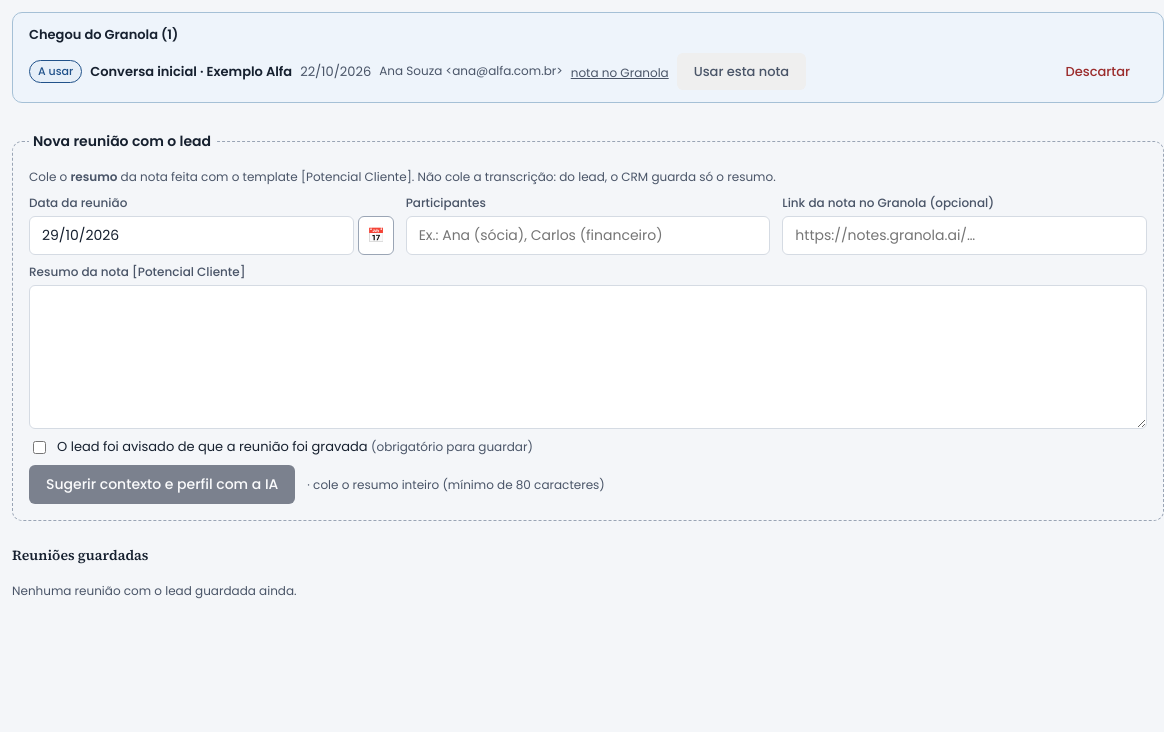
aba Granola › descartar a nota que chegou pede confirmação
Click the button "Descartar" at x=1098, y=71, box [1049,52,1147,90]
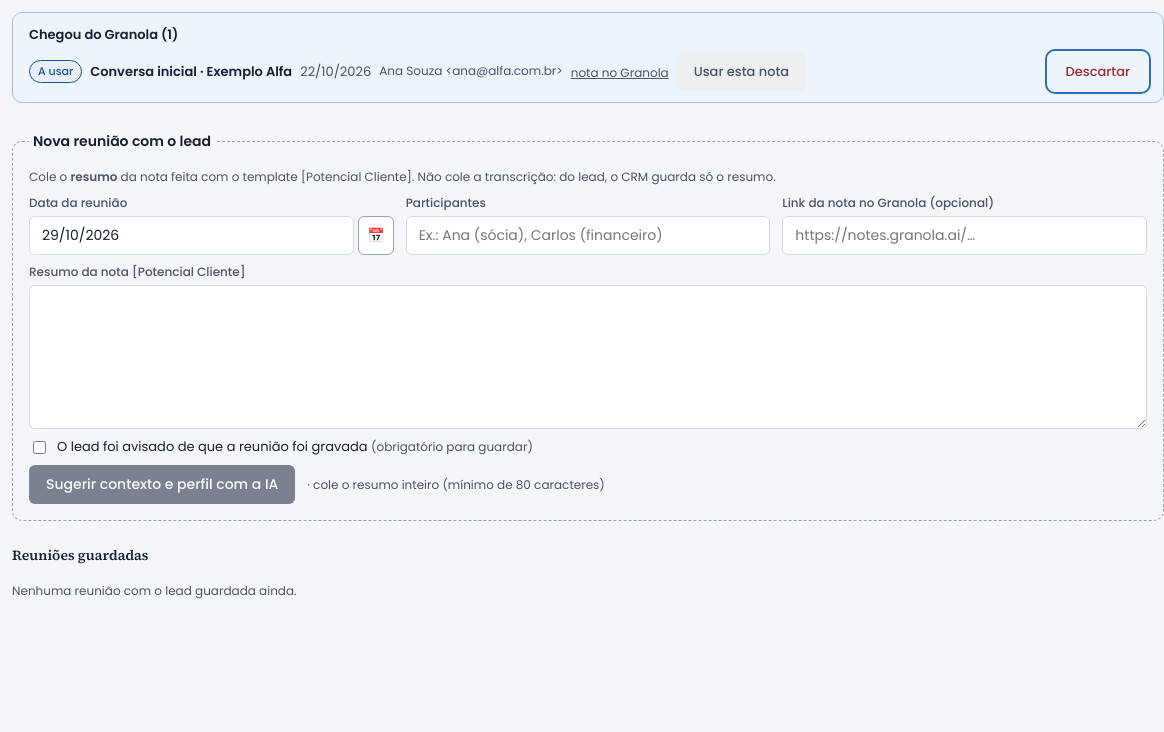
Click the button "Descartar" at x=1098, y=71, box [1049,52,1147,90]
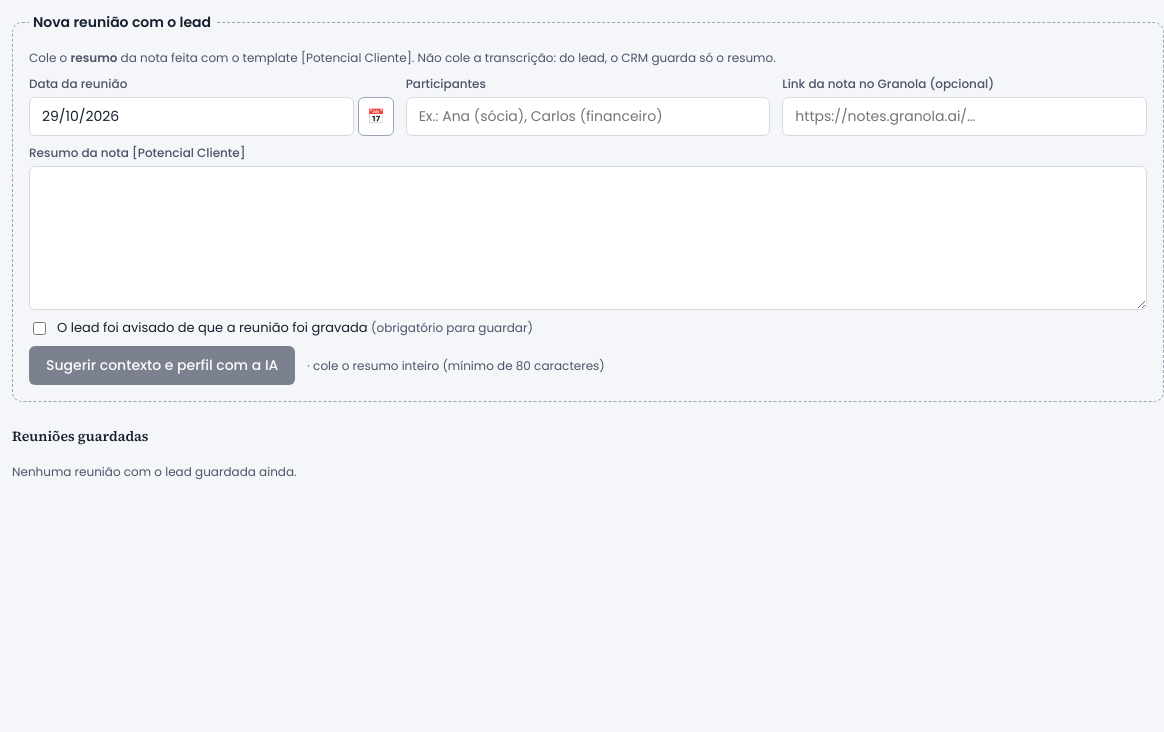
Expected: the text "Nenhuma reunião com o lead guardada ainda." is shown, [12,463,297,480]
Now the text "Chegou do Granola" is gone
